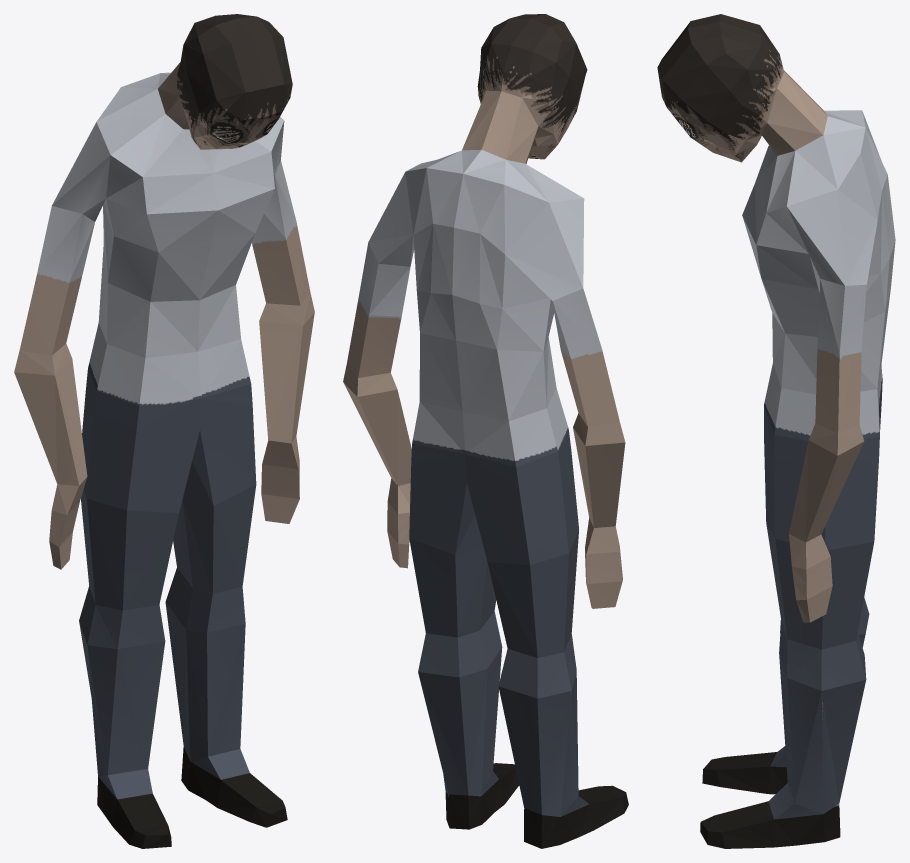
Rendered from AntagonsitPose2.fbx.
3 views of the same model, side by side, from view 1: azimuth 30°, elevation 25°; view 2: azimuth 150°, elevation 25°; view 3: azimuth 270°, elevation 25° (orthographic). The views are drawn at different scales.
Parts seen in each view (by area): view 1: Characters_01.001; view 2: Characters_01.001; view 3: Characters_01.001.
Part boxes in pixels (x1=…): Characters_01.001: x1=14, y1=14, x2=314, y2=848; Characters_01.001: x1=343, y1=14, x2=628, y2=848; Characters_01.001: x1=657, y1=14, x2=895, y2=848.
Bounding box in the file's own units: 90.65 × 235 × 63.16.
